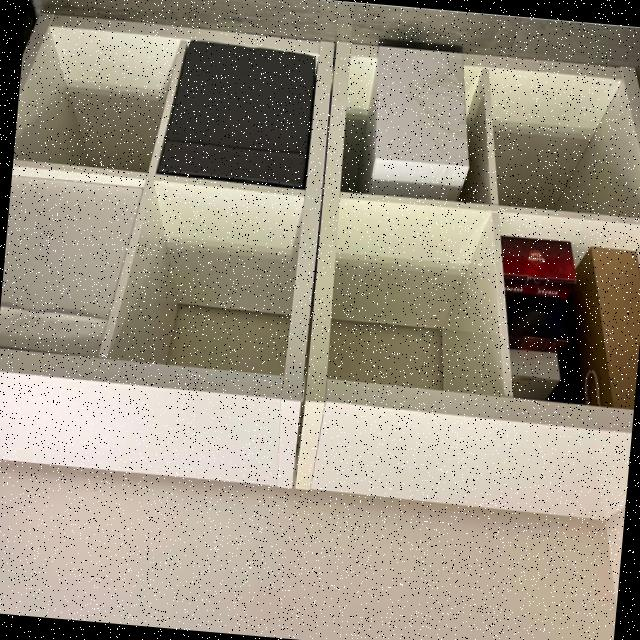Shelf: (0, 1, 640, 539)
